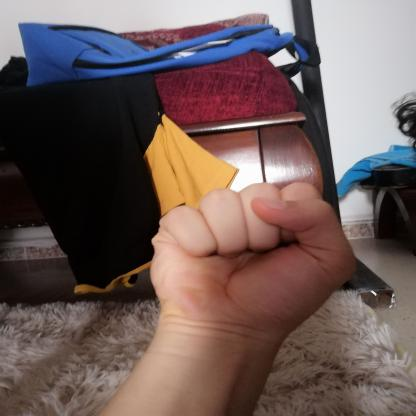SAD: (128, 171, 375, 350)
